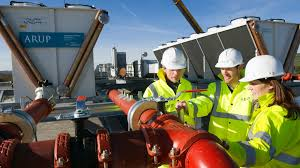Person_wearing_helmet: (243, 53, 281, 92), (153, 44, 186, 71), (214, 46, 246, 72)
